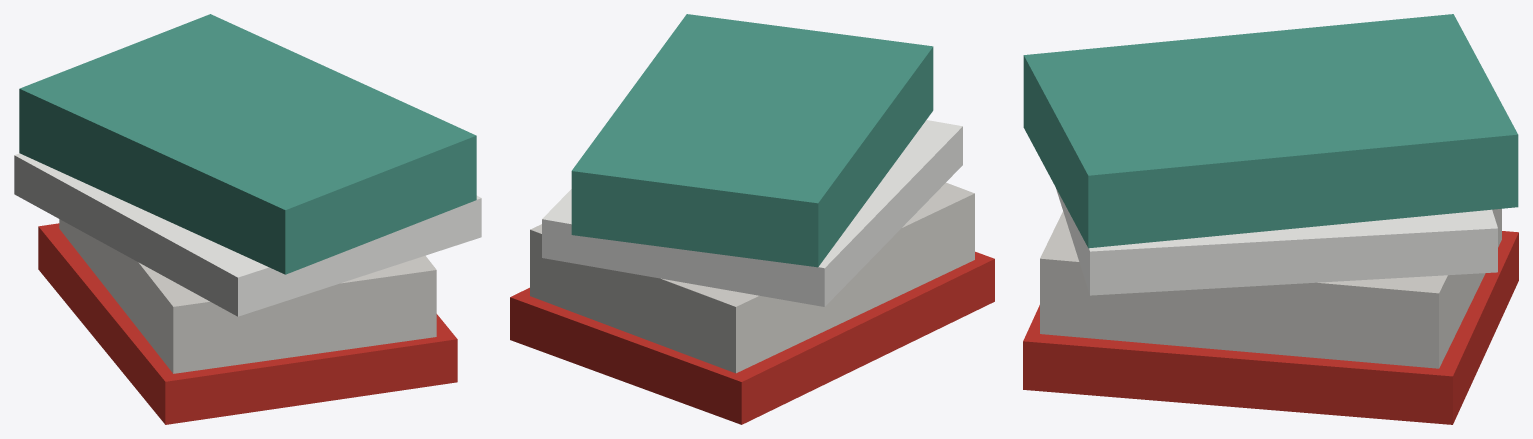
Rendered from Deco_BookStack.gltf.
3 renders of one model, left to right at view 1: azimuth 30°, elevation 25°; view 2: azimuth 150°, elevation 25°; view 3: azimuth 270°, elevation 25°, orthographic. The views are drawn at different scales.
Visible parts, largest first — view 1: Deco_BookStack; view 2: Deco_BookStack; view 3: Deco_BookStack.
Boxes of the visible parts, <box> form: Deco_BookStack: <box>14,14,481,424</box>; Deco_BookStack: <box>510,14,994,424</box>; Deco_BookStack: <box>1023,14,1518,424</box>.
Bounding box in the file's own units: 0.2697 × 0.1686 × 0.3151.
